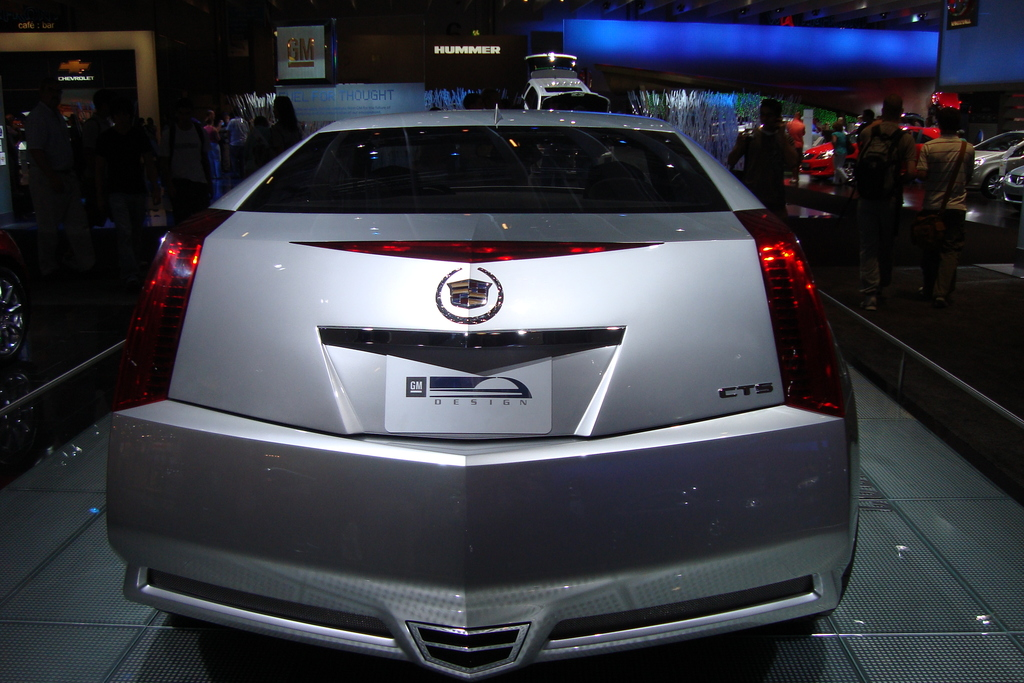person: (23, 79, 96, 278)
